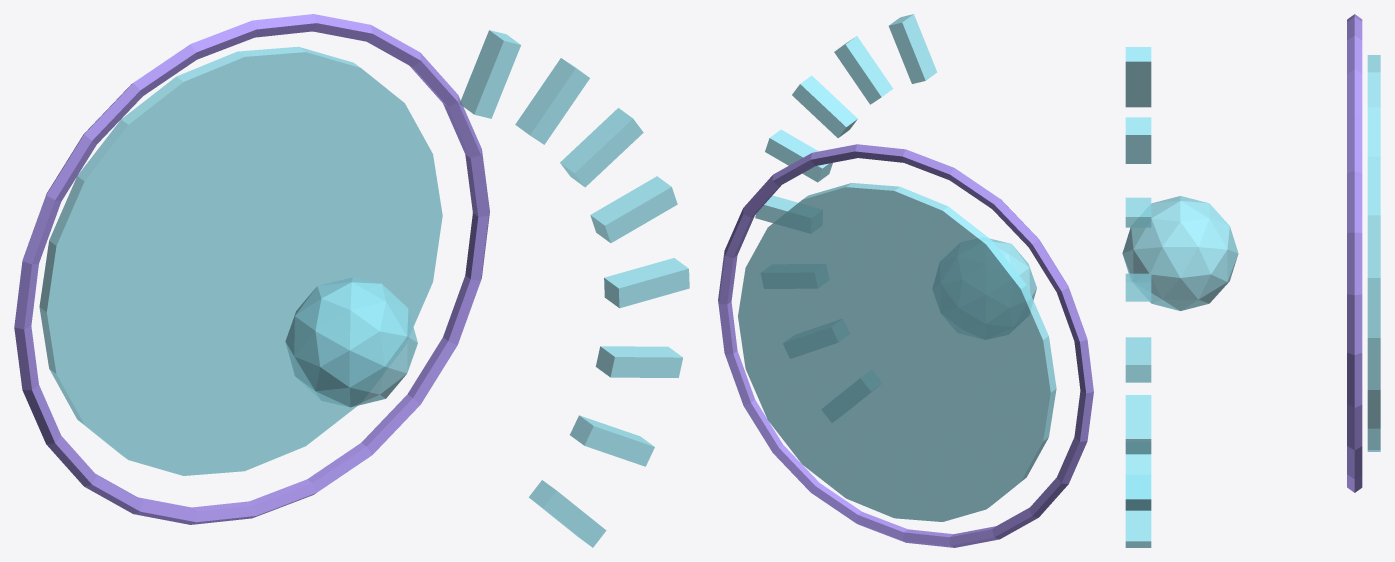
Rendered from 01_class_special_attack_vfx.glb.
The picture shows the model from 3 angles, left to right: view 1: azimuth 30°, elevation 25°; view 2: azimuth 150°, elevation 25°; view 3: azimuth 270°, elevation 25°; orthographic projection. The views are drawn at different scales.
Parts seen in each view (by area): view 1: ability_cast_disc, ability_outer_ring, class_energy_core, attack_flow_arc_seg_7, attack_flow_arc_seg_5, attack_flow_arc_seg_6, attack_flow_arc_seg_4, attack_flow_arc_seg_3, attack_flow_arc_seg_2, attack_flow_arc_seg_1, attack_flow_arc_seg_0; view 2: ability_cast_disc, ability_outer_ring, attack_flow_arc_seg_7, attack_flow_arc_seg_5, attack_flow_arc_seg_6, attack_flow_arc_seg_4, class_energy_core, attack_flow_arc_seg_3; view 3: class_energy_core, ability_outer_ring, ability_cast_disc, attack_flow_arc_seg_7, attack_flow_arc_seg_2, attack_flow_arc_seg_1, attack_flow_arc_seg_6, attack_flow_arc_seg_3, attack_flow_arc_seg_0, attack_flow_arc_seg_5, attack_flow_arc_seg_4.
Boxes of the visible parts, x1,y1,x2,y2 form: ability_cast_disc: (39, 46, 442, 475); ability_outer_ring: (14, 14, 489, 524); class_energy_core: (285, 277, 417, 407); attack_flow_arc_seg_7: (459, 30, 520, 118); attack_flow_arc_seg_5: (560, 108, 643, 187); attack_flow_arc_seg_6: (515, 58, 589, 144); attack_flow_arc_seg_4: (590, 176, 677, 242); attack_flow_arc_seg_3: (604, 258, 689, 308); attack_flow_arc_seg_2: (595, 346, 682, 377); attack_flow_arc_seg_1: (570, 415, 654, 466); attack_flow_arc_seg_0: (528, 480, 606, 547); ability_cast_disc: (738, 183, 1056, 521); ability_outer_ring: (718, 144, 1093, 547); attack_flow_arc_seg_7: (888, 14, 937, 83); attack_flow_arc_seg_5: (792, 75, 857, 137); attack_flow_arc_seg_6: (834, 36, 893, 104); attack_flow_arc_seg_4: (765, 129, 832, 182); class_energy_core: (990, 238, 1036, 300); attack_flow_arc_seg_3: (755, 195, 798, 222); class_energy_core: (1122, 196, 1238, 310); ability_outer_ring: (1347, 14, 1362, 492); ability_cast_disc: (1367, 55, 1380, 451); attack_flow_arc_seg_7: (1125, 47, 1151, 107); attack_flow_arc_seg_2: (1125, 395, 1151, 454); attack_flow_arc_seg_1: (1125, 454, 1151, 510); attack_flow_arc_seg_6: (1125, 117, 1151, 163); attack_flow_arc_seg_3: (1125, 337, 1151, 382); attack_flow_arc_seg_0: (1125, 510, 1151, 547); attack_flow_arc_seg_5: (1125, 197, 1151, 227); attack_flow_arc_seg_4: (1125, 273, 1151, 301).
Bounding box in the file's own units: 1.71 × 1.63 × 0.8.
